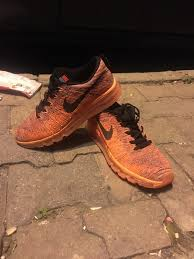nike: (62, 72, 106, 115), (94, 118, 116, 140)
